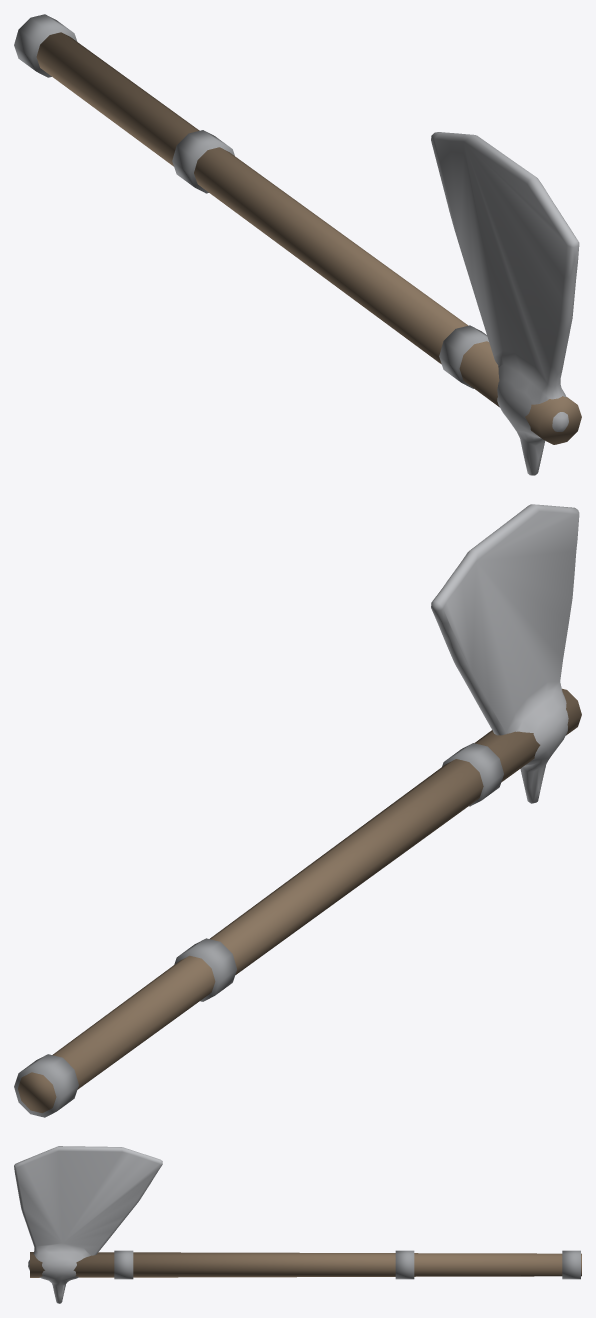
The model's file is Axe.fbx.
The picture shows the model from 3 angles, top to bottom: view 1: azimuth 30°, elevation 25°; view 2: azimuth 150°, elevation 25°; view 3: azimuth 270°, elevation 25°; orthographic projection. The views are drawn at different scales.
Parts seen in each view (by area): view 1: Axe; view 2: Axe; view 3: Axe.
Boxes of the visible parts, x1=… form: Axe: x1=14, y1=14, x2=581, y2=475; Axe: x1=14, y1=504, x2=581, y2=1117; Axe: x1=14, y1=1146, x2=581, y2=1303.
Size of the model in its own units: 2.8 by 16.67 by 54.54.
